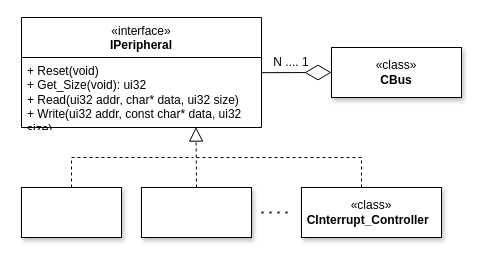
The diagram is 485 pixels wide and 262 high, and some of its shapes have lost their labels. The shapes that lost their labels are listed below. From the top down, each one's centre as x and y in pixels, then its label:
the point at 72,213: «class» CRAM
the point at 197,213: «class» CGPIO_Manager
